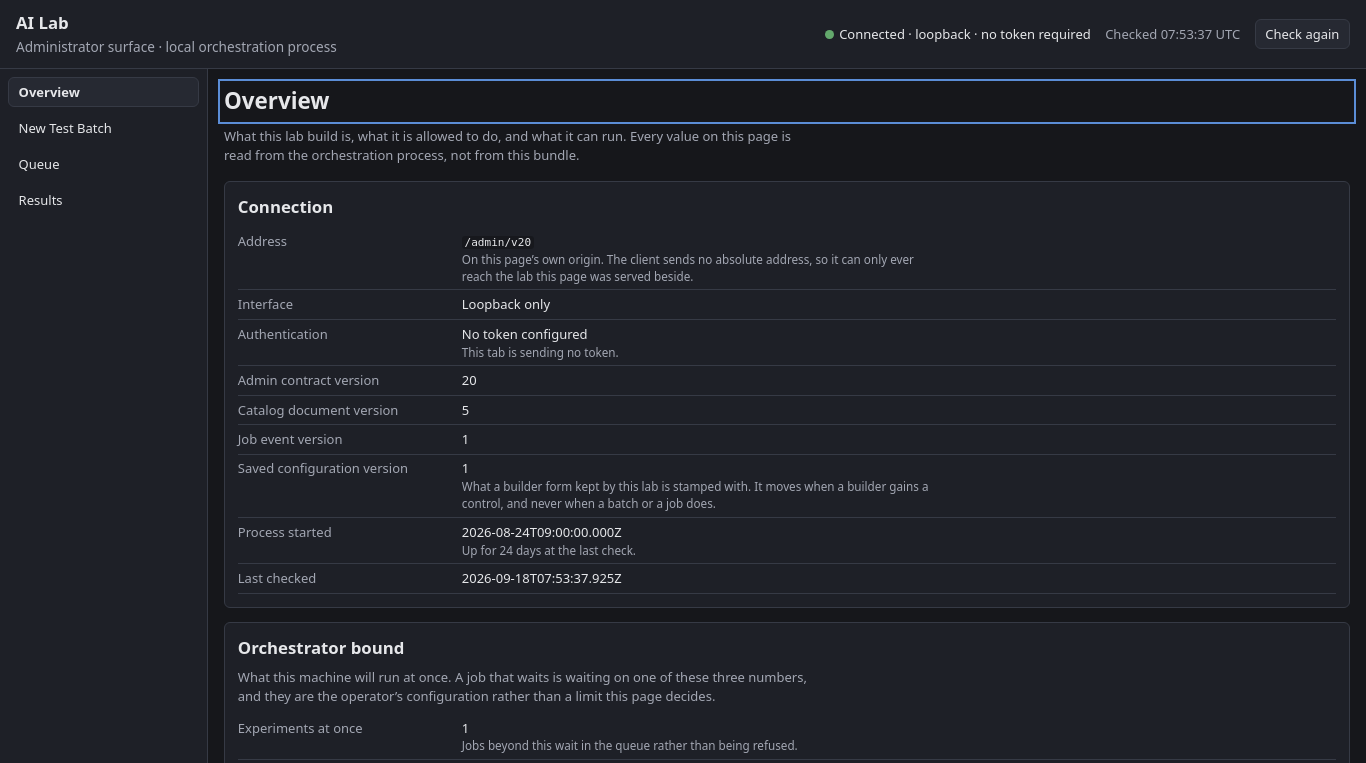
Test: opening the Catalog run coverage tab › falls back to the empty default fixture for an unseeded job ID
expect the heading "Overview" is shown: met, box x1=224 y1=85 x2=330 y2=116
Click the button "Results".
click(104, 200)  # box x1=8 y1=185 x2=199 y2=216
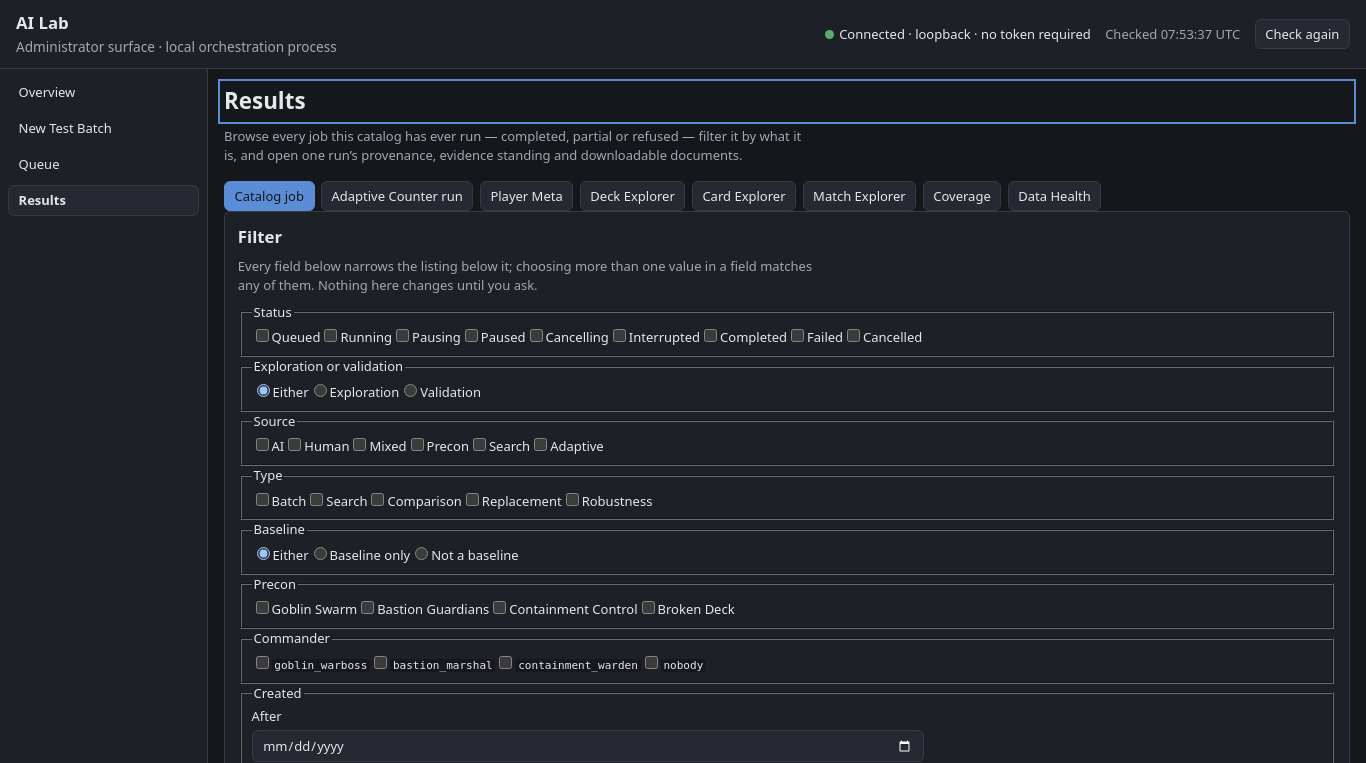
expect the heading "Results" is shown: met, box x1=224 y1=85 x2=306 y2=116
Click the button "Coverage".
click(962, 196)  # box x1=923 y1=181 x2=1001 y2=211
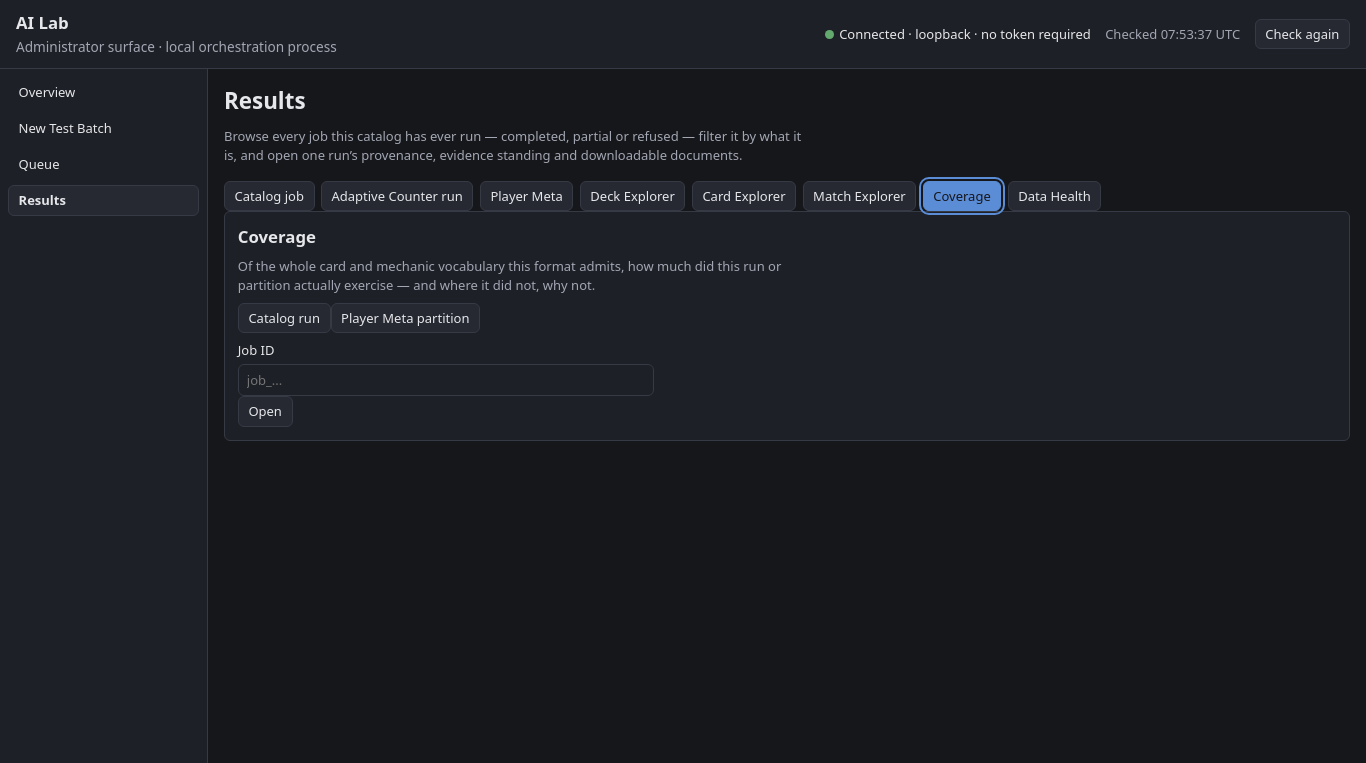
Type "job_00000000000000000000000000000000" into the field labelled "Job ID".
click(446, 380); type("job_00000000000000000000000000000000")  # box x1=238 y1=364 x2=654 y2=396
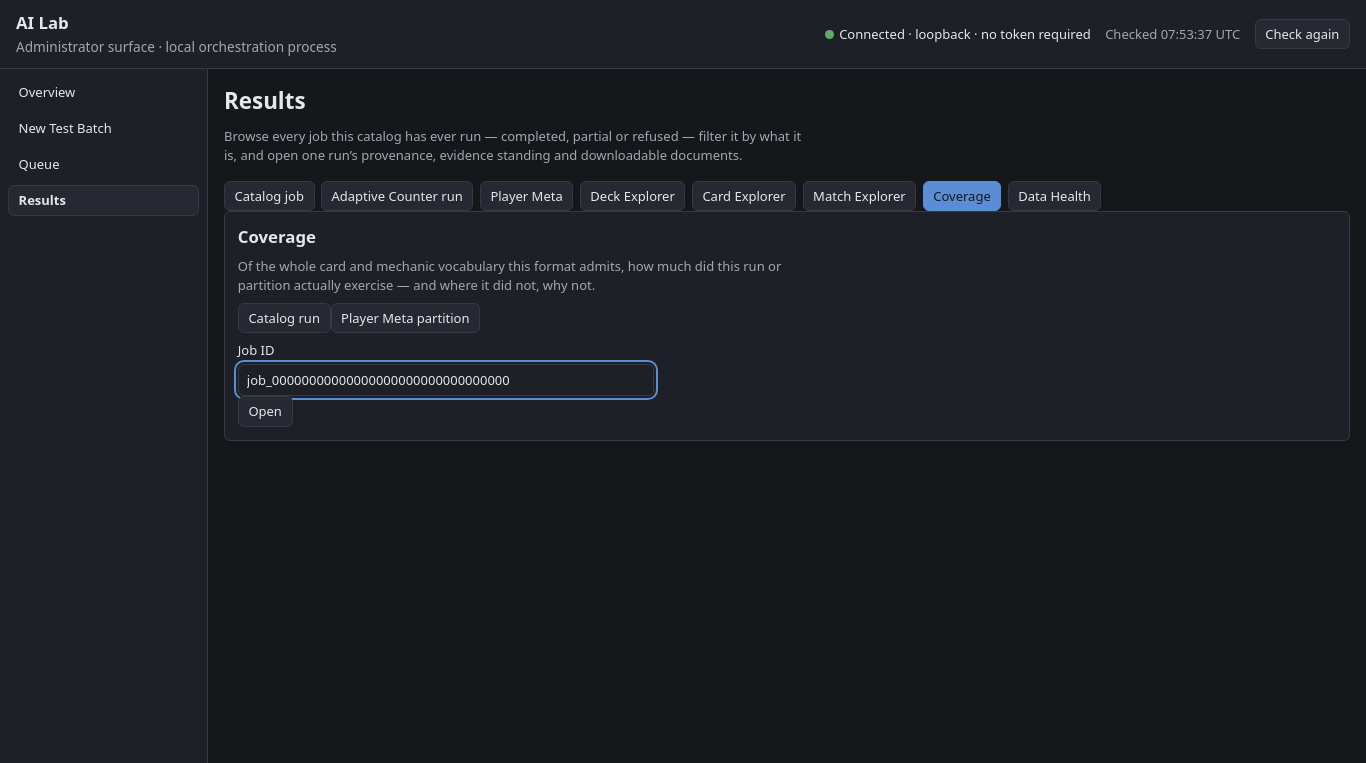
Click the button "Open".
click(265, 412)  # box x1=238 y1=396 x2=292 y2=427
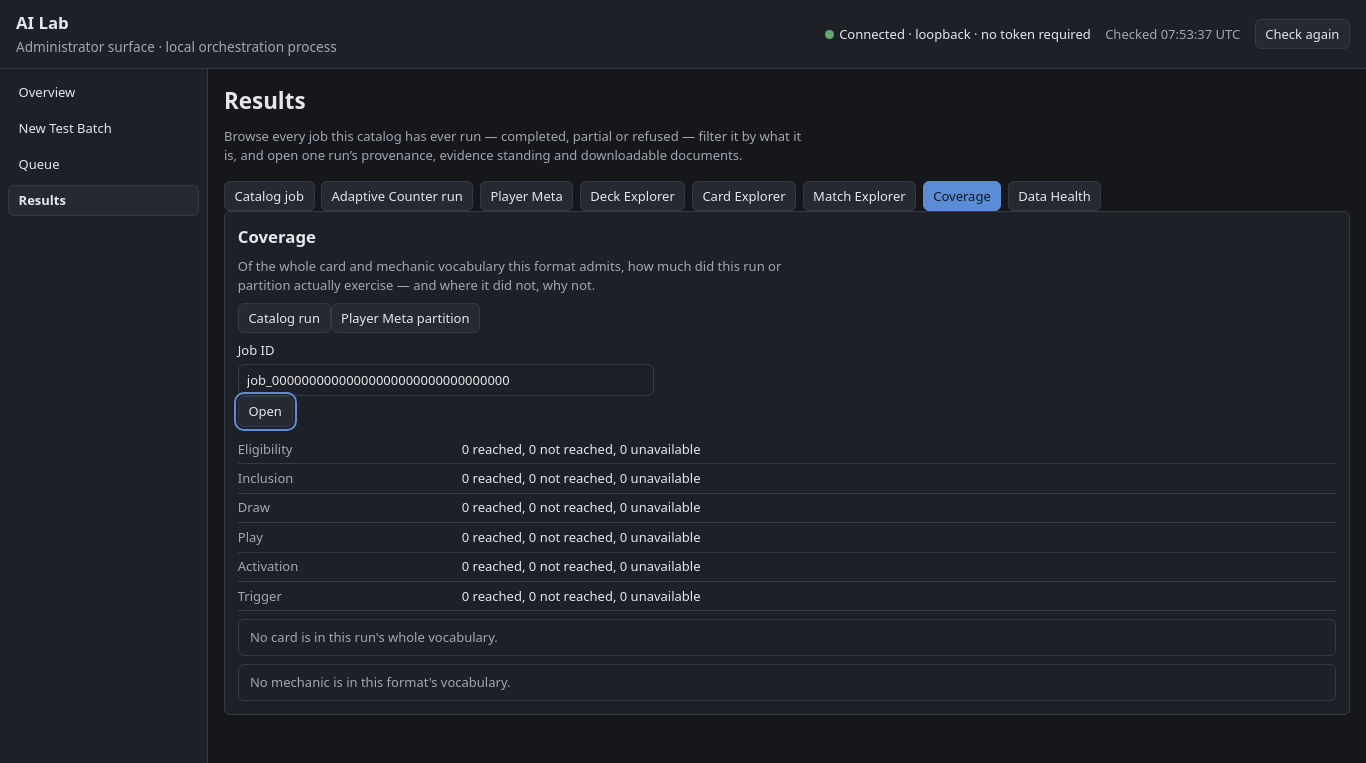
expect the text "No card is in this run's whole vocabulary." is shown: met, box x1=238 y1=619 x2=1336 y2=656
